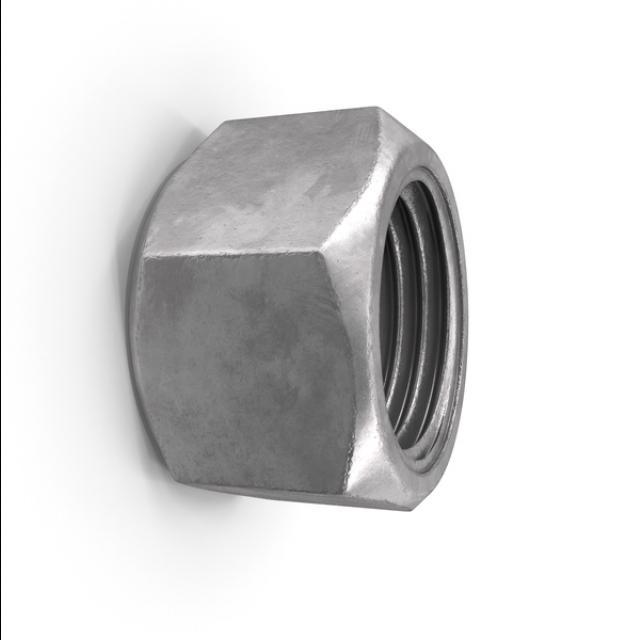nut: (136, 113, 464, 518)
